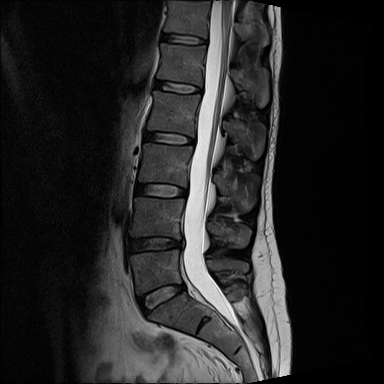Lumbar Disc Bulge (LDB): (131, 277, 192, 323), (123, 232, 191, 258)
Normal IVD: (125, 179, 193, 202), (133, 127, 198, 149), (144, 75, 208, 97), (156, 29, 213, 49)
Spinal Stenosis (SS): (173, 231, 189, 257), (175, 274, 188, 298)
